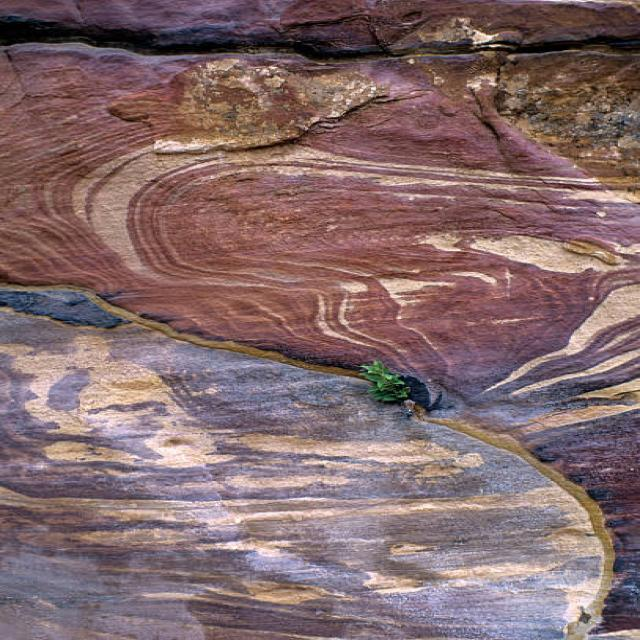Sedimentary: (7, 5, 636, 636)
